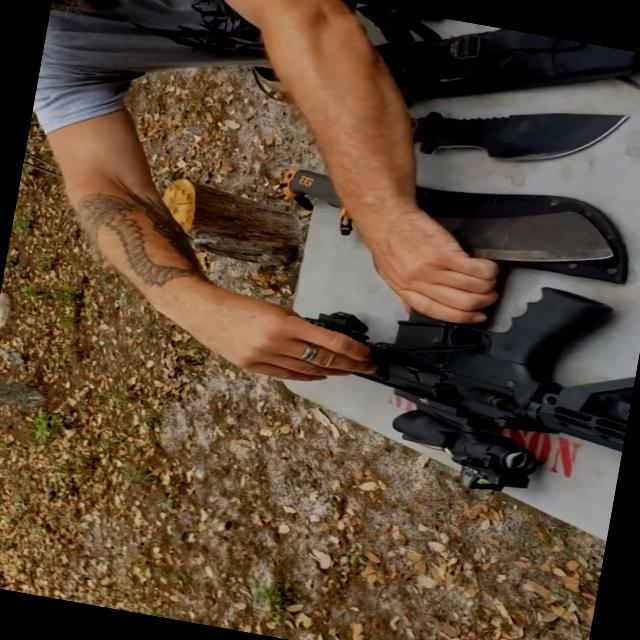knife: (248, 140, 634, 296), (367, 67, 630, 188)
long weapon: (241, 213, 639, 551)
